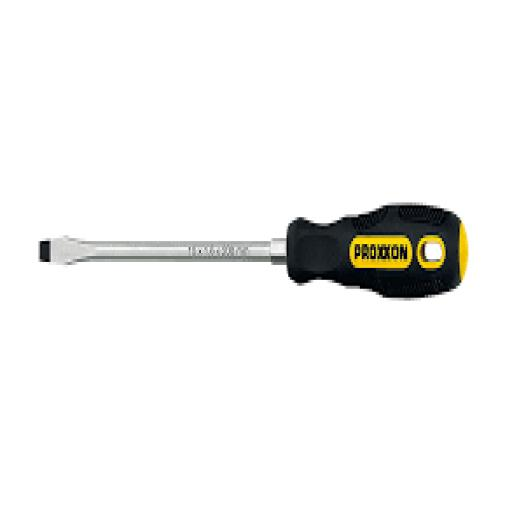screwdriver: (38, 199, 468, 298)
